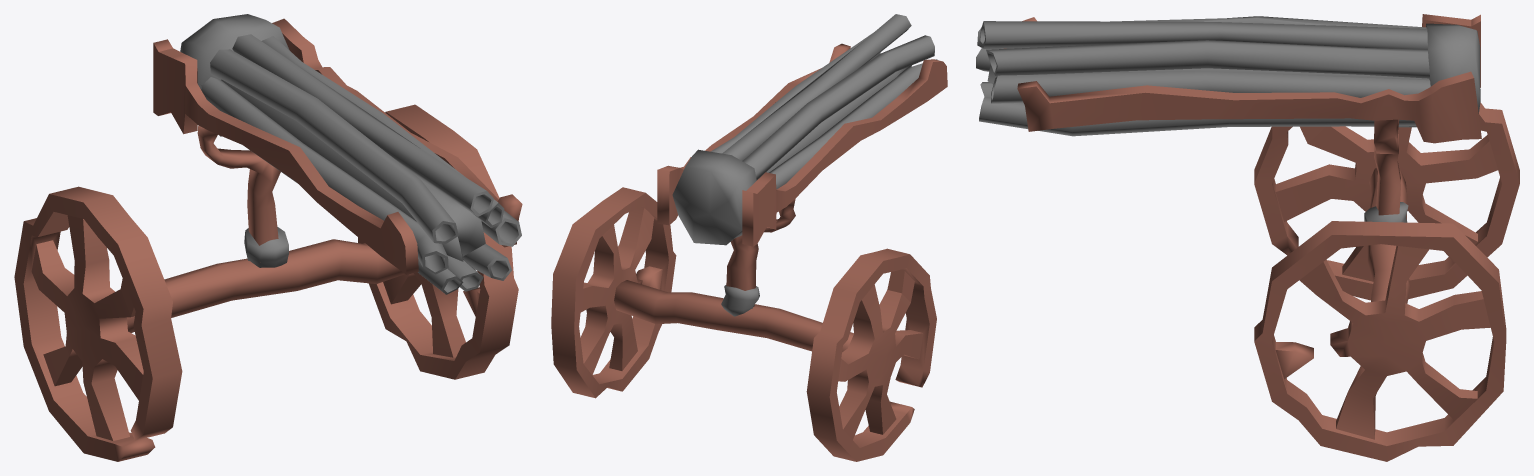
The model's file is Metralhadora_3.fbx.
3 renders of one model, left to right at view 1: azimuth 30°, elevation 25°; view 2: azimuth 150°, elevation 25°; view 3: azimuth 270°, elevation 25°, orthographic. The views are drawn at different scales.
Parts seen in each view (by area): view 1: Metralhadora_3; view 2: Metralhadora_3; view 3: Metralhadora_3.
Part boxes in pixels (<box>): Metralhadora_3: <box>14,14,522,461</box>; Metralhadora_3: <box>551,14,947,461</box>; Metralhadora_3: <box>976,14,1519,461</box>.
Size of the model in its own units: 1.8 by 1.36 by 1.29.
